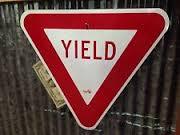yield_sign: (18, 8, 173, 130)
